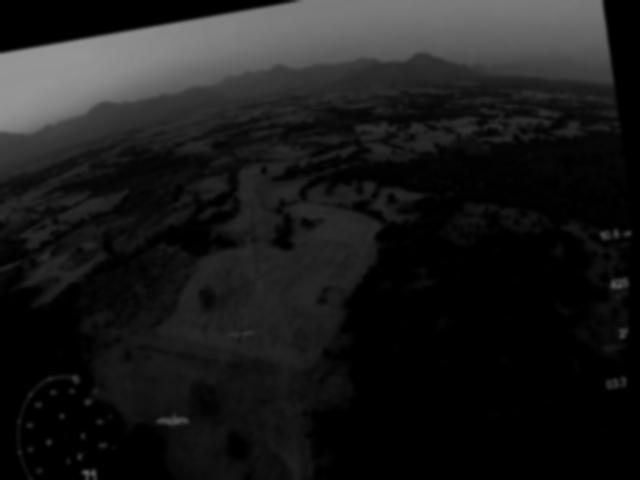hedef: (154, 404, 201, 442)
